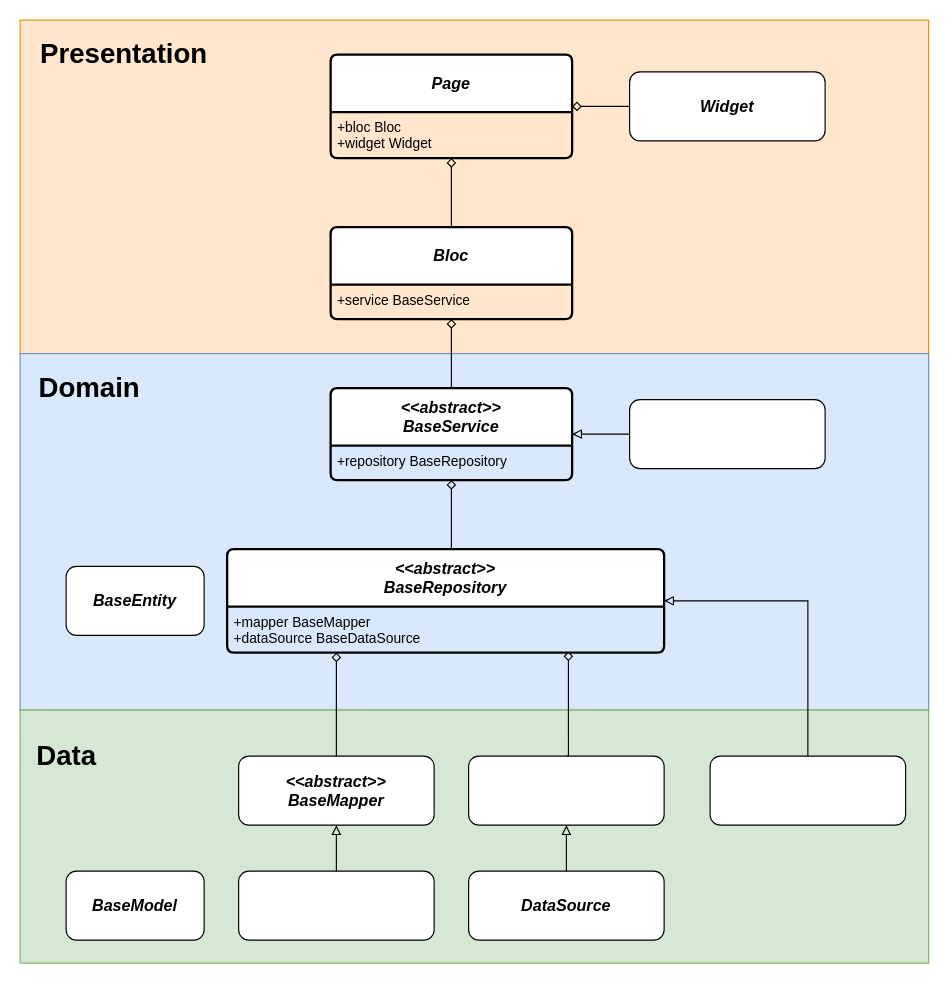
Some shapes in this 949 by 983 pixel diagram are drawn without their labels. Here are the shapes that lost their labels. From the top down, the centre of each, then its label:
pixel 726 433: Service
pixel 565 790: <<abstract>> BaseDataSource
pixel 807 790: Repository
pixel 335 905: Mapper
